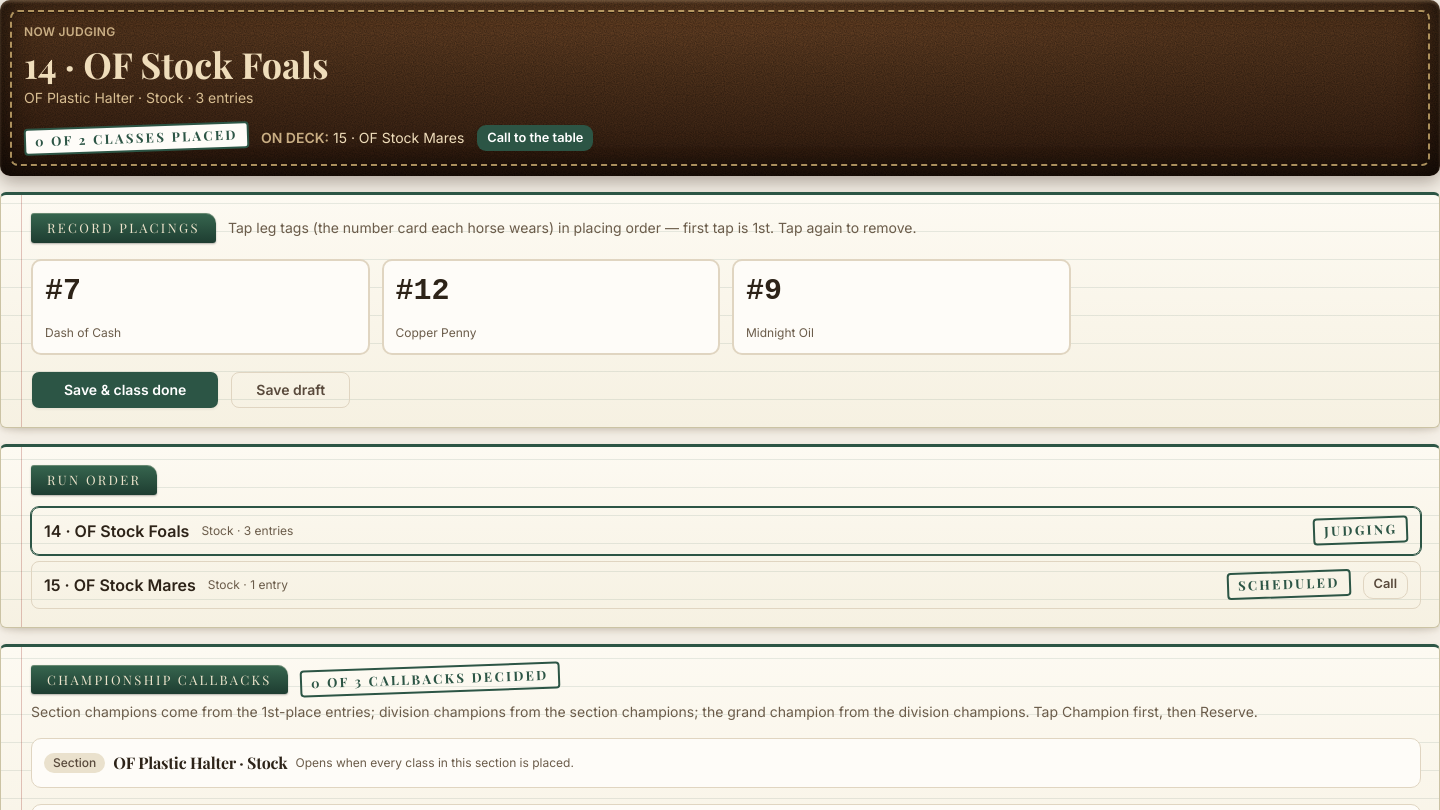
Test case: RingConsole — the placing recorder › surfaces server refusals verbatim (never queued)
Step 1. Click the button with test id "ring-entry" → {"x": 63, "y": 291}, box 31,259 -> 370,355
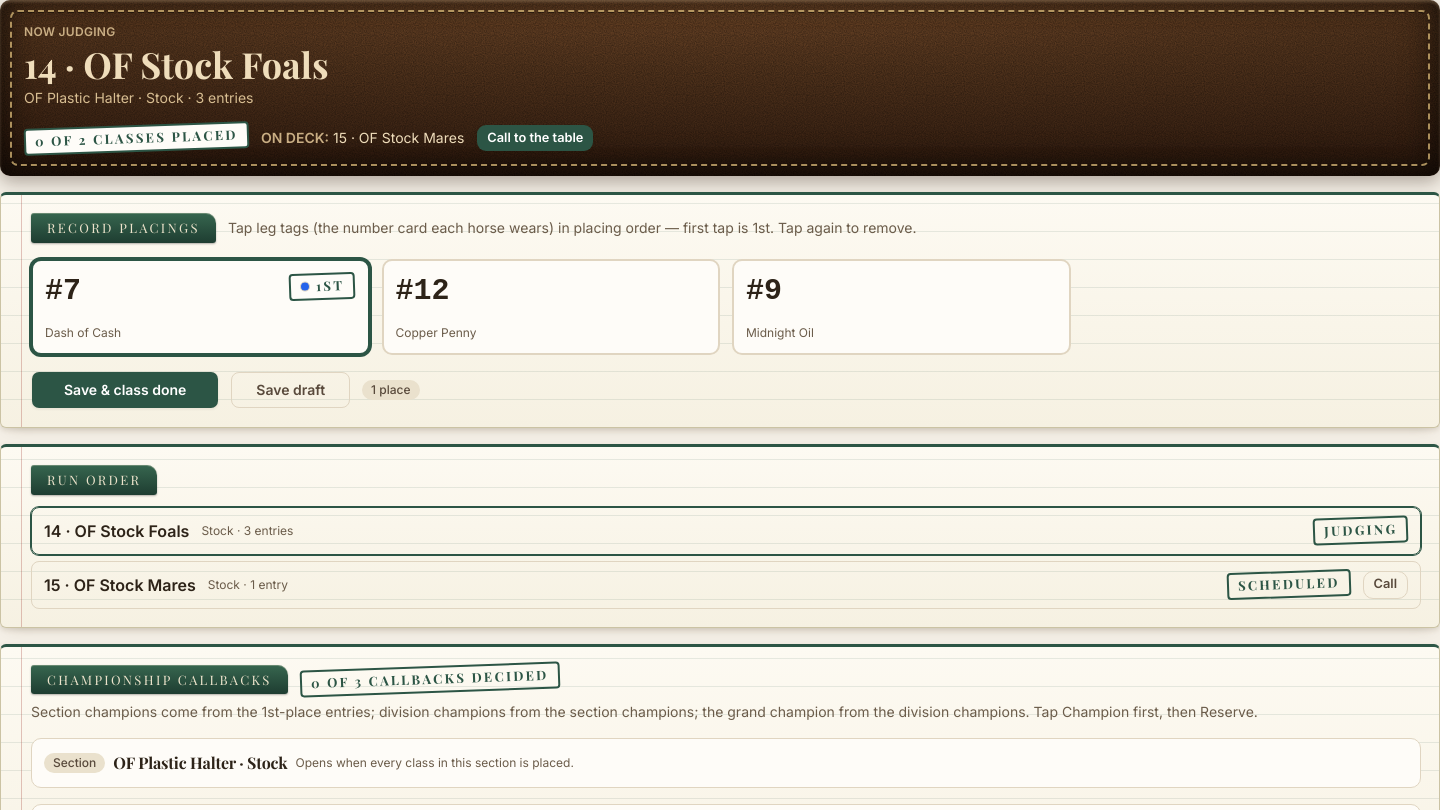
Step 2. Click the button with test id "ring-save-done" → {"x": 125, "y": 390}, box 31,371 -> 219,409
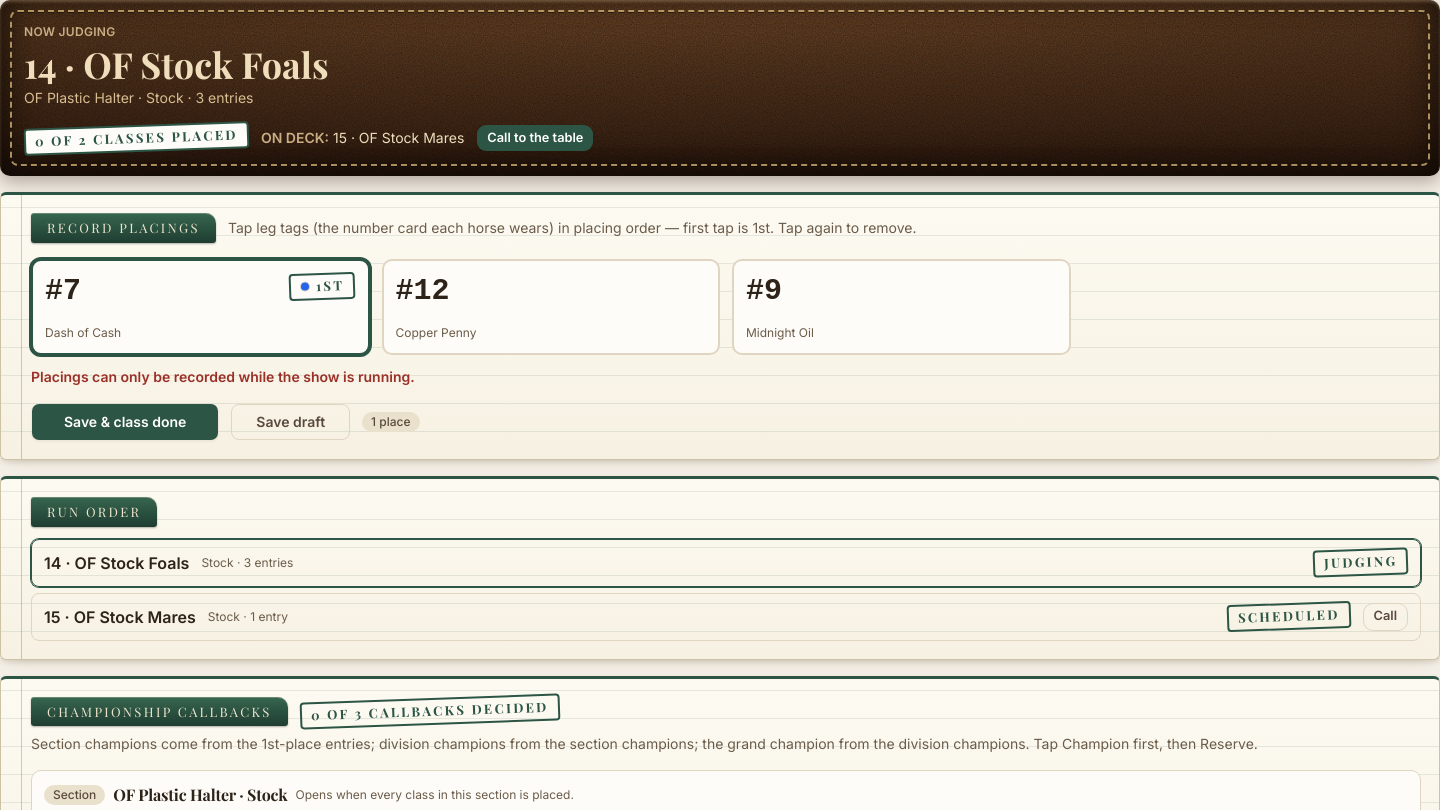
expect the text "Placings can only be recorded while the show is running." is shown: met, box 31,368 -> 415,385
